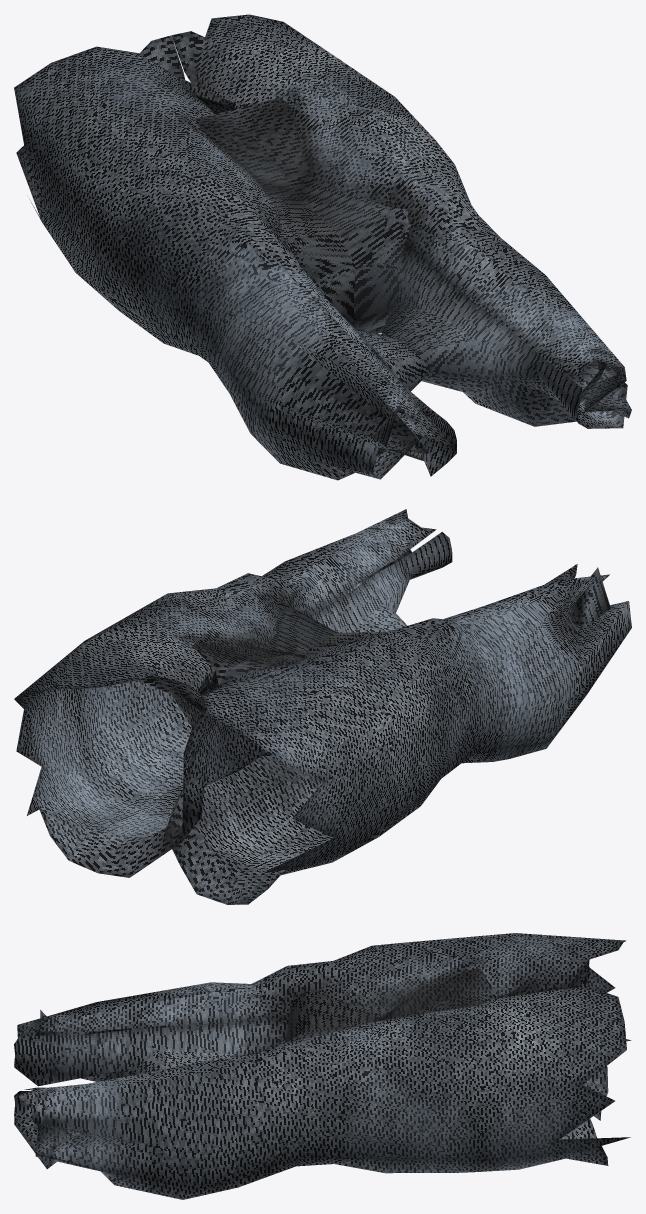
File: jambieres_gardiens.glb
3 views of the same model, one above another, from view 1: azimuth 30°, elevation 25°; view 2: azimuth 150°, elevation 25°; view 3: azimuth 270°, elevation 25° (orthographic). The views are drawn at different scales.
Visible parts, largest first — view 1: jambieres_gardiens; view 2: jambieres_gardiens; view 3: jambieres_gardiens.
Boxes of the visible parts, box(x1,y1,x2,y2) form: jambieres_gardiens: box(14, 14, 631, 480); jambieres_gardiens: box(14, 509, 631, 904); jambieres_gardiens: box(14, 933, 631, 1199).
Bounding box in the file's own units: 0.4195 × 0.2762 × 0.8328.
1 material, 1 textured.
